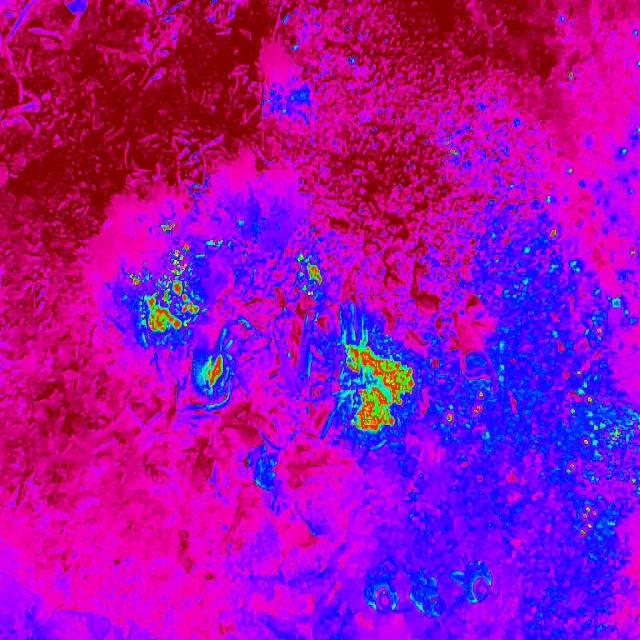fire: (534, 222, 640, 550), (338, 332, 416, 438), (129, 242, 199, 336), (443, 390, 487, 428), (298, 252, 326, 302), (202, 351, 226, 389), (446, 140, 464, 162), (159, 220, 177, 235)
